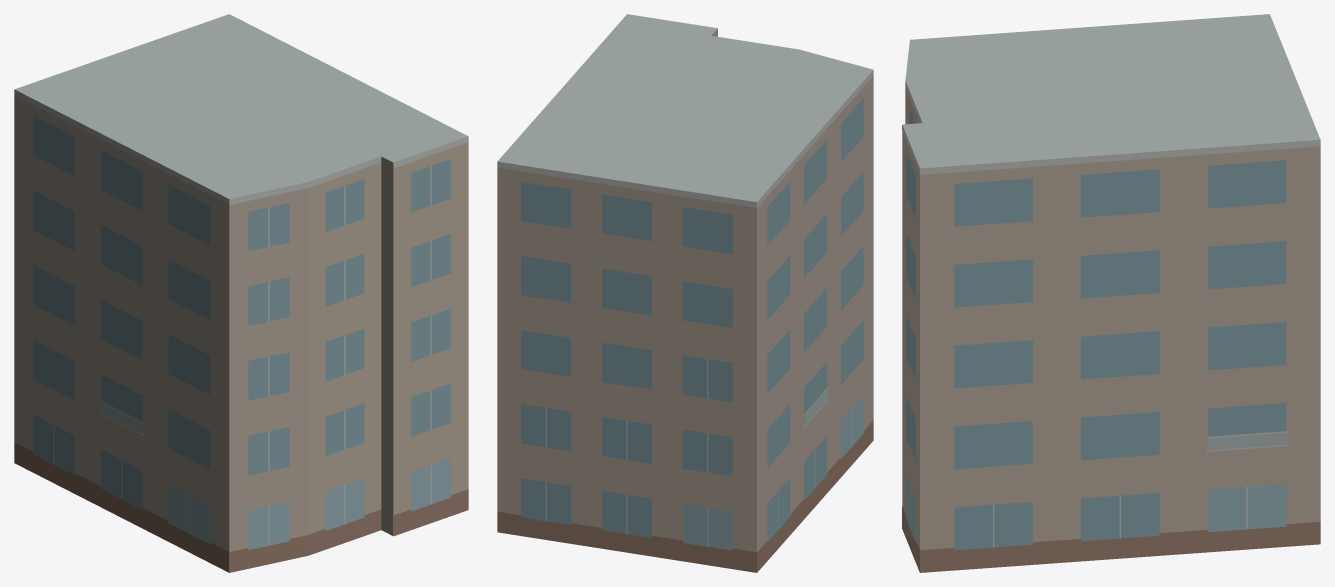
File: survey-upis-32619967.glb
The picture shows the model from 3 angles, left to right: view 1: azimuth 30°, elevation 25°; view 2: azimuth 150°, elevation 25°; view 3: azimuth 270°, elevation 25°; orthographic projection. The views are drawn at different scales.
Visible parts, largest first — view 1: survey-upis-32619967.tmp; view 2: survey-upis-32619967.tmp; view 3: survey-upis-32619967.tmp.
Boxes of the visible parts, left/top/right/bottom form: survey-upis-32619967.tmp: left=14, top=14, right=468, bottom=572; survey-upis-32619967.tmp: left=497, top=14, right=873, bottom=572; survey-upis-32619967.tmp: left=902, top=14, right=1320, bottom=572.
Bounding box in the file's own units: 12.46 × 15.2 × 14.26.
